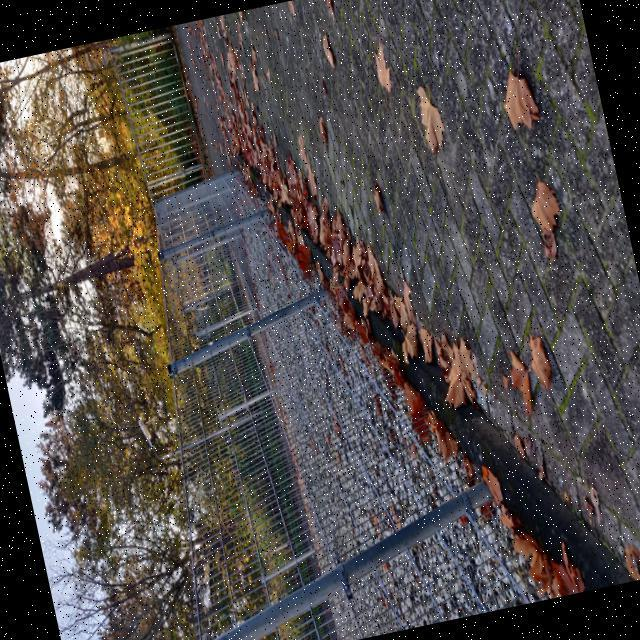fence line: (138, 140, 482, 639), (106, 39, 206, 184)
